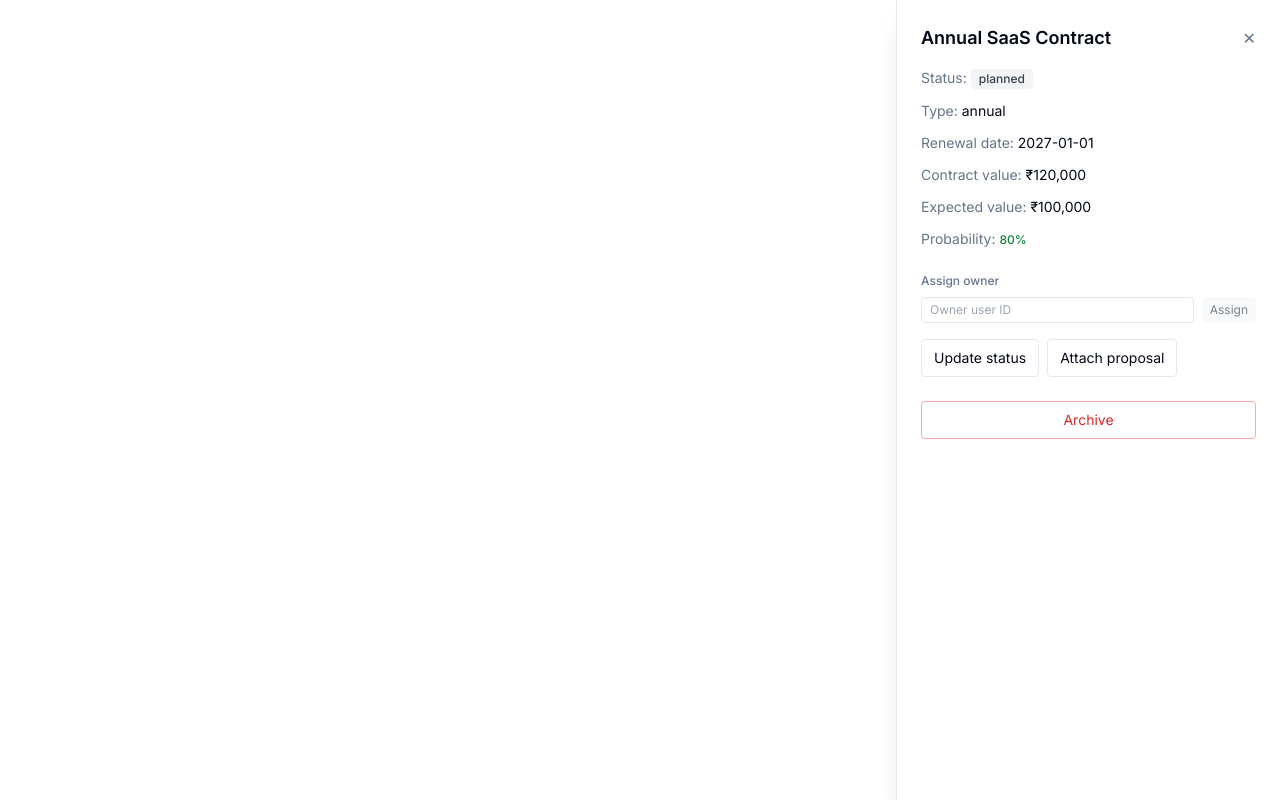
Scenario: RenewalDrawer › status dialog closed after cancel
Click the button with test id "update-status-btn": (980,358) [921,339,1039,377]
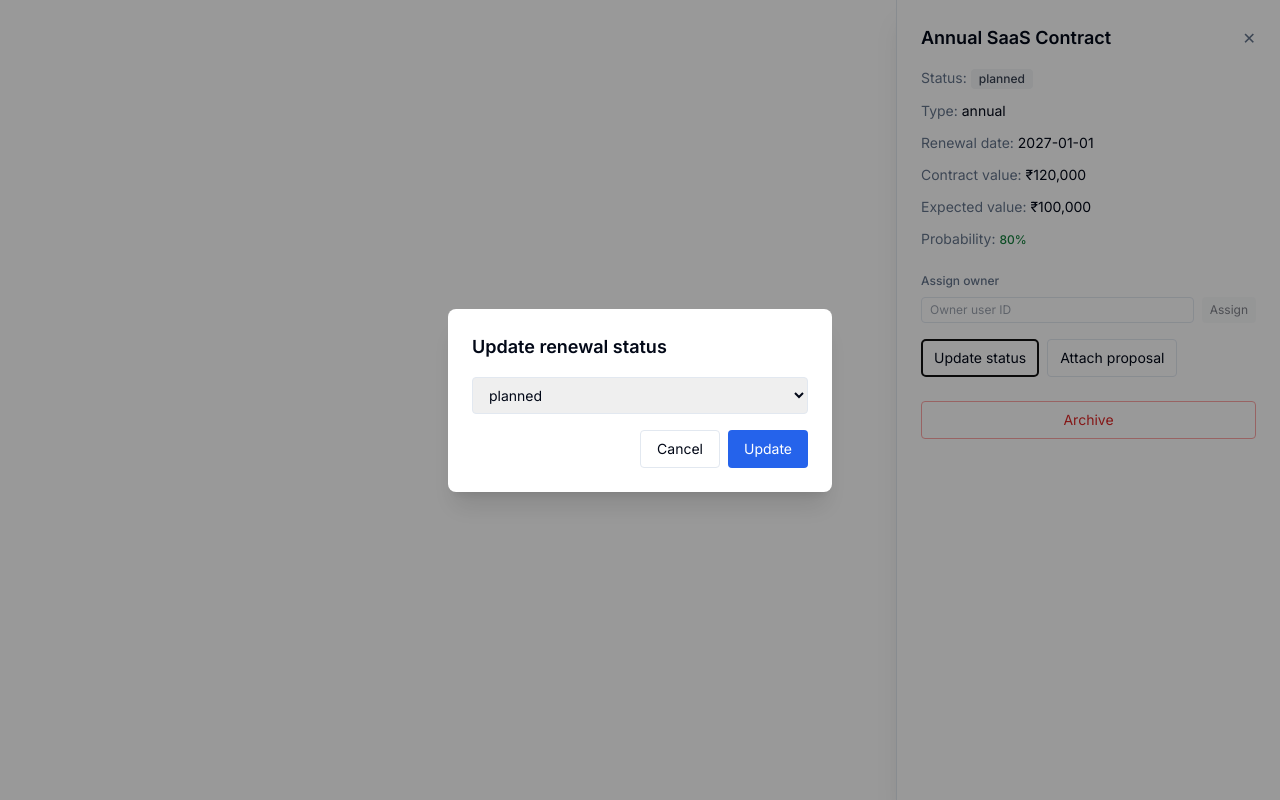
Check: the element with test id "status-update-dialog" is shown
Click the button with test id "status-cancel": (680,448) [640,430,720,468]
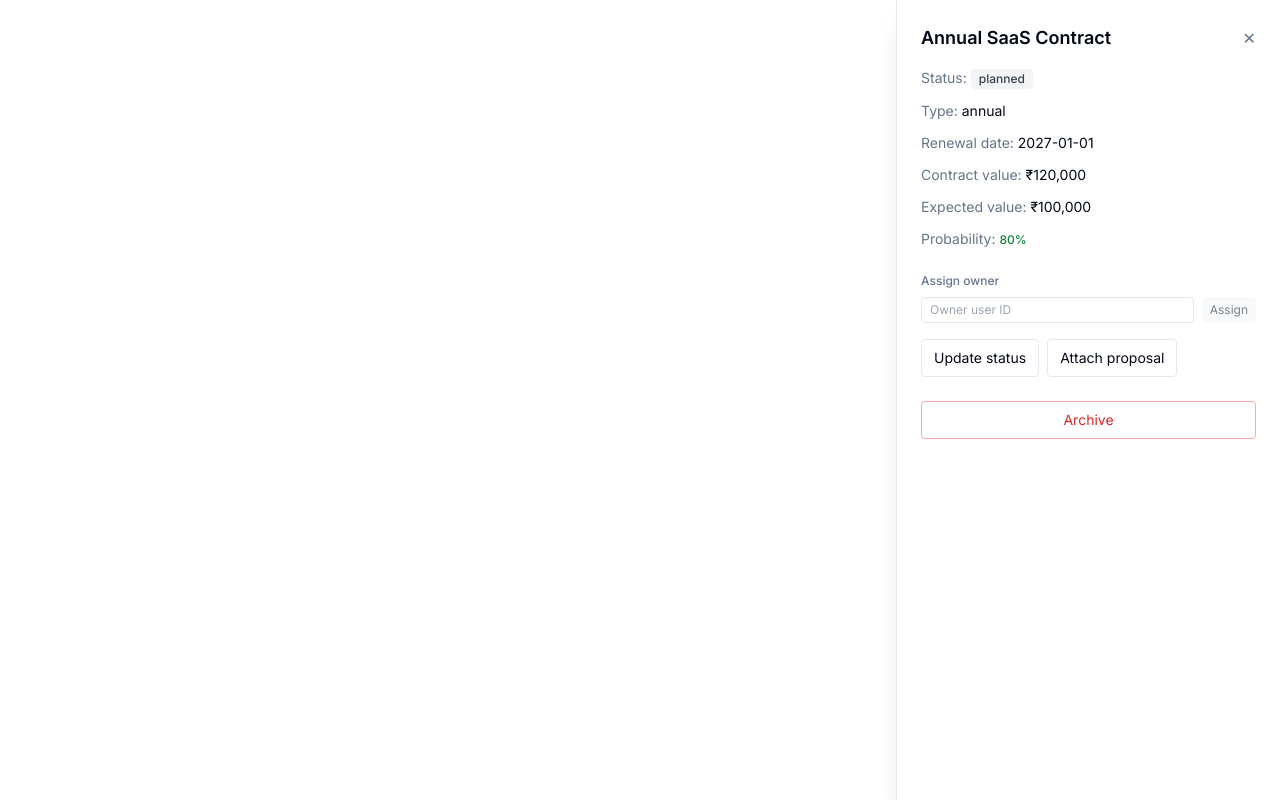
Check: the element with test id "status-update-dialog" is gone
